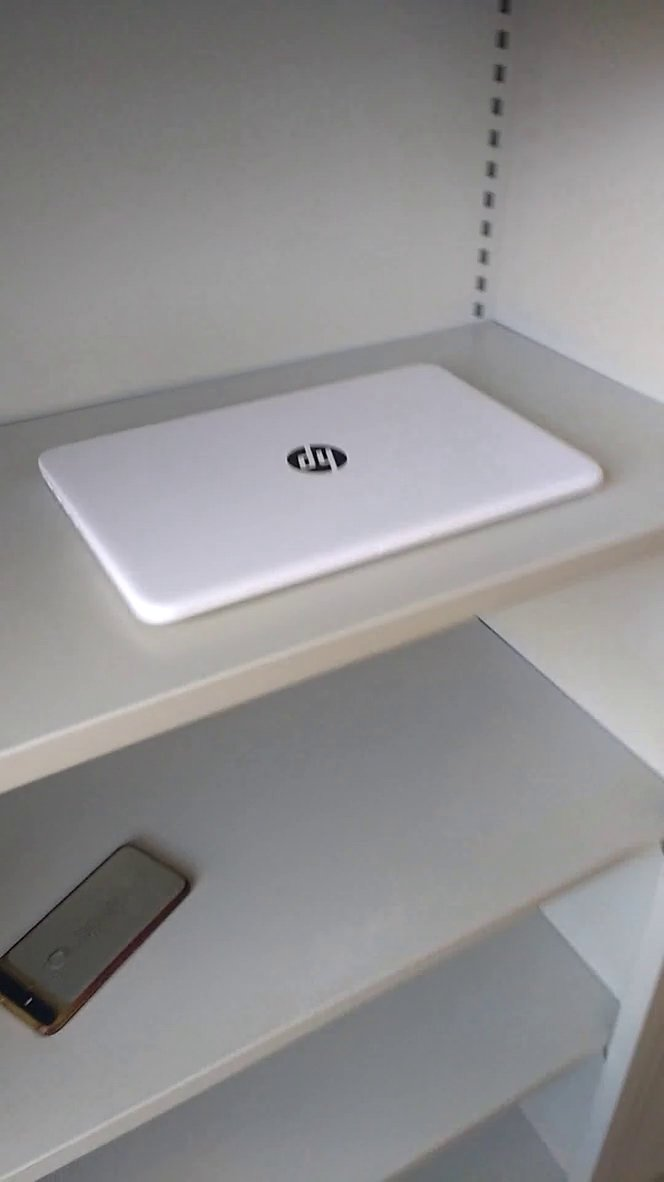laptop: (29, 348, 619, 637)
phone: (1, 835, 198, 1045)
